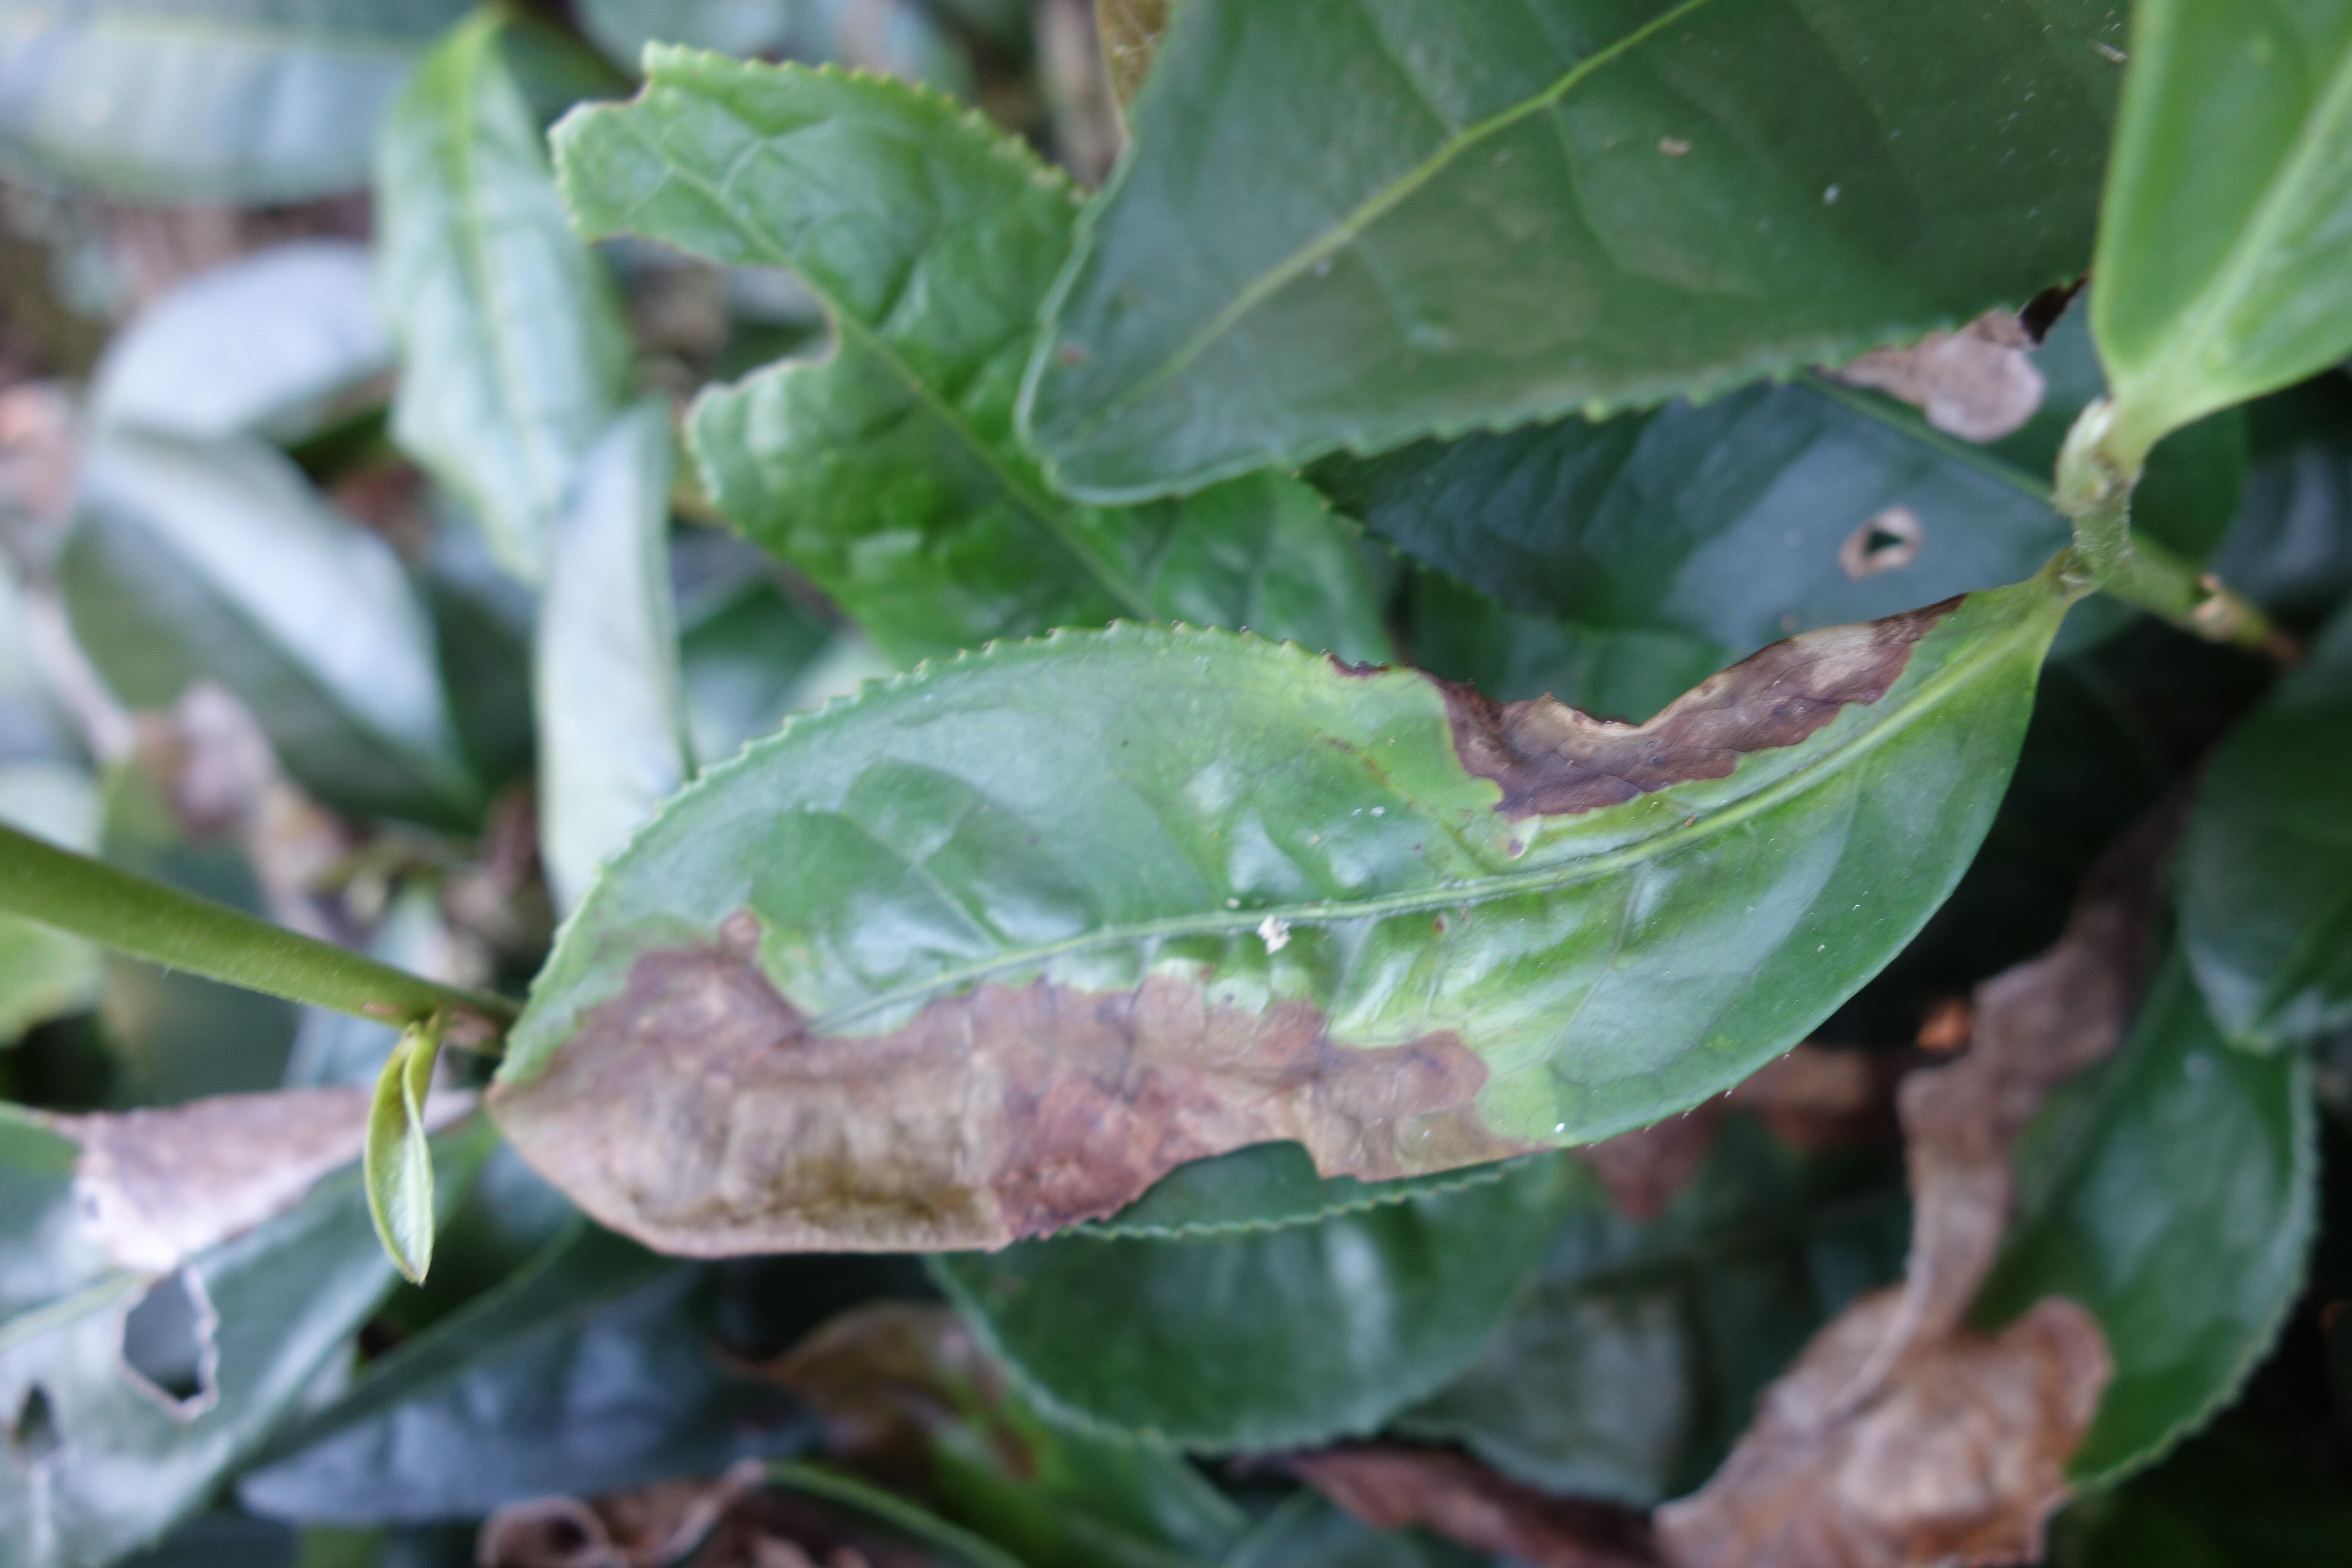chihuo_high: (548, 40, 1381, 621)
tanju_high: (486, 577, 2070, 1255)
